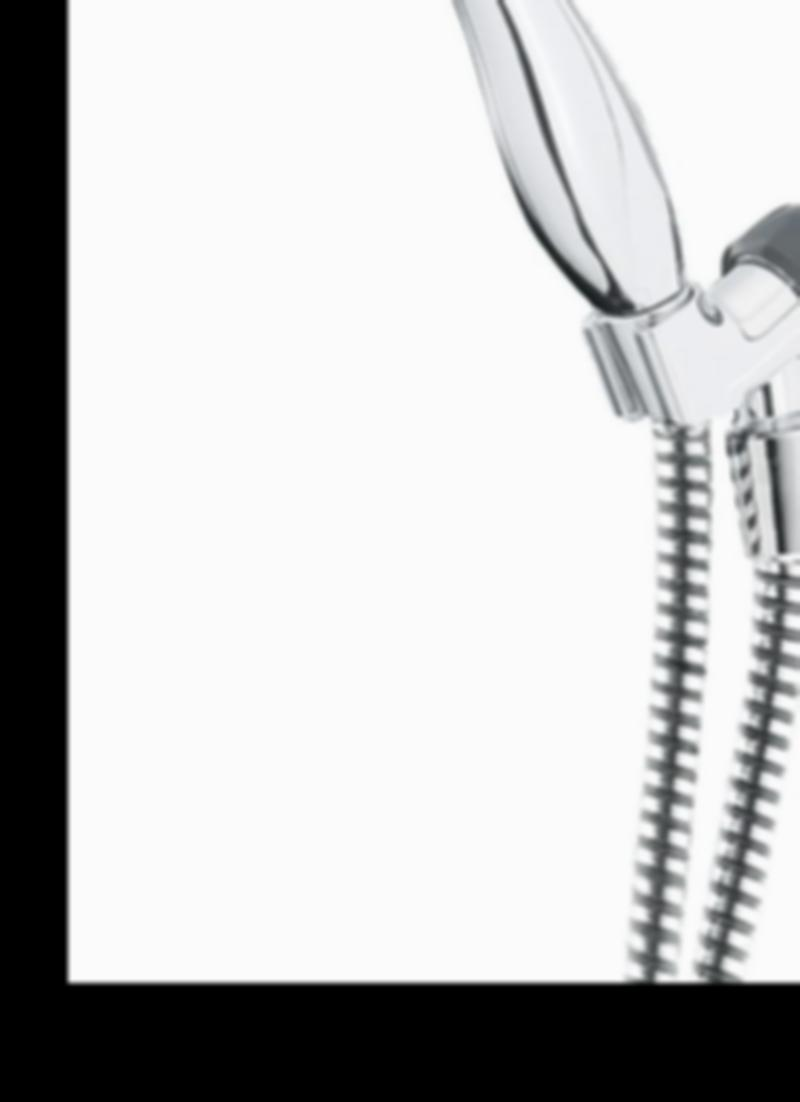Ducha: (130, 0, 800, 982)
